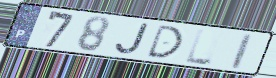7: (43, 9, 76, 49)
8: (76, 15, 112, 53)
D: (145, 24, 184, 60)
I: (230, 32, 254, 71)
J: (114, 21, 151, 56)
L: (184, 28, 214, 67)
